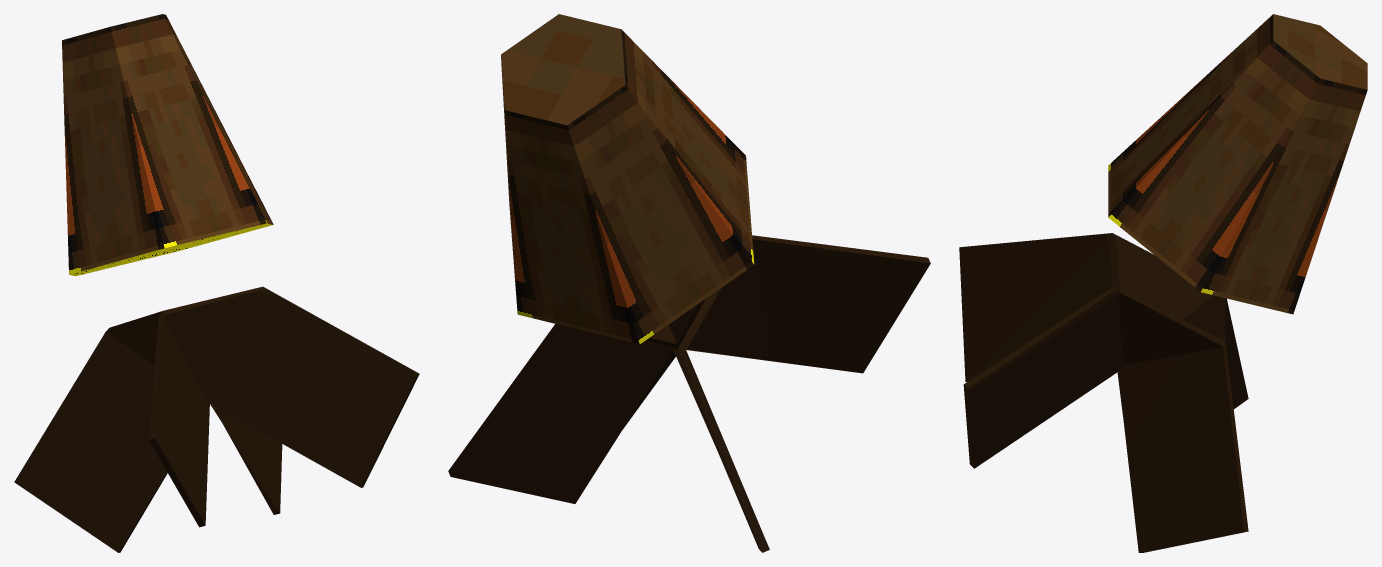
File: rocketammo.fbx
3 renders of one model, left to right at view 1: azimuth 30°, elevation 25°; view 2: azimuth 150°, elevation 25°; view 3: azimuth 270°, elevation 25°, orthographic. The views are drawn at different scales.
Visible parts, largest first — view 1: mesh1.001, mesh1; view 2: mesh1, mesh1.001; view 3: mesh1.001, mesh1.
Boxes of the visible parts, bbox=[...] form: mesh1.001: bbox=[14, 286, 419, 552]; mesh1: bbox=[62, 14, 273, 276]; mesh1: bbox=[501, 14, 754, 344]; mesh1.001: bbox=[448, 235, 930, 552]; mesh1.001: bbox=[959, 233, 1248, 552]; mesh1: bbox=[1108, 14, 1367, 314].
Bounding box in the file's own units: 45.56 × 74.45 × 56.52.
